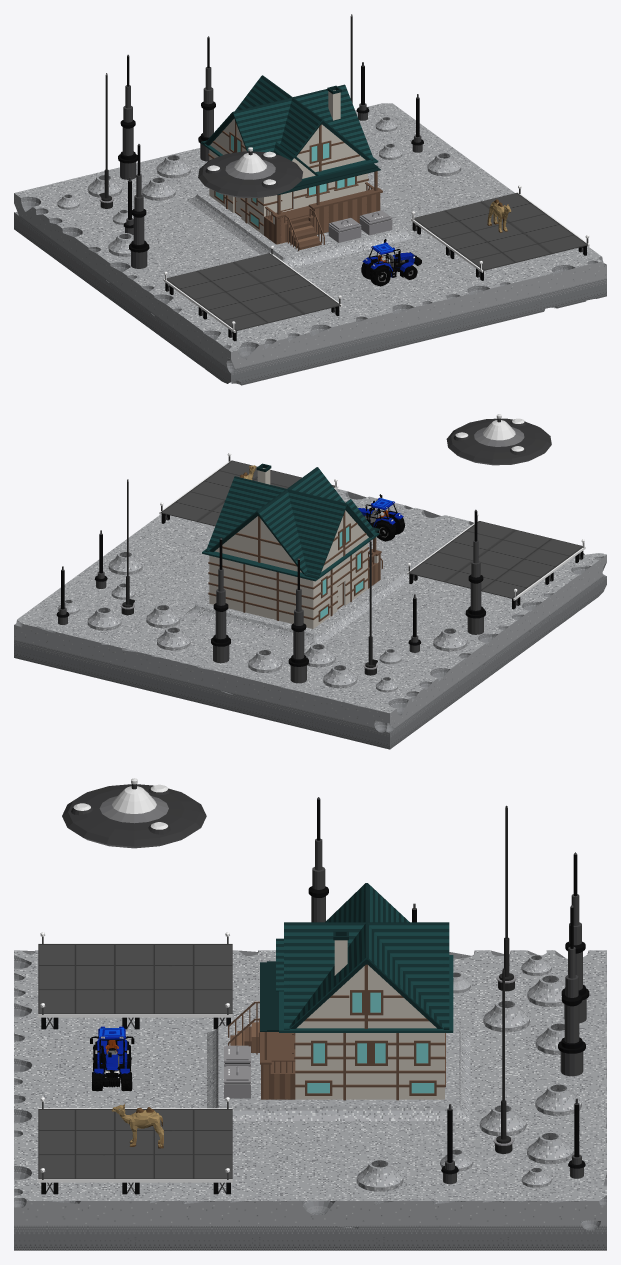
3 renders of one model, top to bottom at view 1: azimuth 30°, elevation 25°; view 2: azimuth 150°, elevation 25°; view 3: azimuth 270°, elevation 25°, orthographic. The views are drawn at different scales.
Parts seen in each view (by area): view 1: Cube.027, Cube.793, Cube.025, Cube.026, Cube.028, OBJRANDOM_UFO, VEHICLES_TRACTOR, Cylinder.021, Cylinder.020, Cylinder.017, Cube.029, Cube.030 (+5 smaller); view 2: Cube.027, Cube.793, Cube.025, OBJRANDOM_UFO, Cube.028, Cube.026, Cylinder.021, Cylinder.017, Cylinder.020, VEHICLES_TRACTOR, Cylinder.025, Cylinder.028 (+8 smaller); view 3: Cube.027, Cube.793, Cube.025, Cube.026, Cube.028, OBJRANDOM_UFO, VEHICLES_TRACTOR, Cylinder.017, Cylinder.020, Cylinder.021, Cylinder.033, Cylinder.031 (+11 smaller).
Boxes of the visible parts, x1,y1,x2,y2 form: Cube.027: [14, 103, 606, 385]; Cube.793: [201, 75, 382, 251]; Cube.025: [163, 245, 342, 341]; Cube.026: [411, 185, 589, 280]; Cube.028: [187, 191, 414, 267]; OBJRANDOM_UFO: [198, 147, 302, 198]; VEHICLES_TRACTOR: [361, 239, 421, 286]; Cylinder.021: [129, 144, 149, 268]; Cylinder.020: [118, 54, 137, 179]; Cylinder.017: [198, 36, 215, 161]; Cube.029: [328, 218, 361, 242]; Cube.030: [359, 210, 392, 235]; Cube.027: [14, 489, 606, 749]; Cube.793: [202, 463, 382, 628]; Cube.025: [407, 513, 585, 609]; OBJRANDOM_UFO: [446, 414, 551, 465]; Cube.028: [185, 565, 409, 645]; Cube.026: [159, 453, 338, 526]; Cylinder.021: [465, 509, 485, 634]; Cylinder.017: [211, 538, 230, 663]; Cylinder.020: [288, 558, 308, 683]; VEHICLES_TRACTOR: [358, 494, 404, 541]; Cylinder.025: [433, 627, 467, 651]; Cylinder.028: [323, 664, 357, 688]; Cube.027: [14, 950, 606, 1250]; Cube.793: [228, 883, 453, 1100]; Cube.025: [38, 932, 232, 1029]; Cube.026: [38, 1097, 232, 1194]; Cube.028: [207, 1025, 470, 1120]; OBJRANDOM_UFO: [62, 778, 206, 848]; VEHICLES_TRACTOR: [90, 1026, 134, 1091]; Cylinder.017: [558, 905, 585, 1076]; Cylinder.020: [561, 852, 589, 1023]; Cylinder.021: [308, 797, 328, 922]; Cylinder.033: [356, 1159, 403, 1191]; Cylinder.031: [527, 1132, 573, 1164].
Size of the model in its own units: 4000 by 2062 by 4000.
29 materials, 6 textured.
